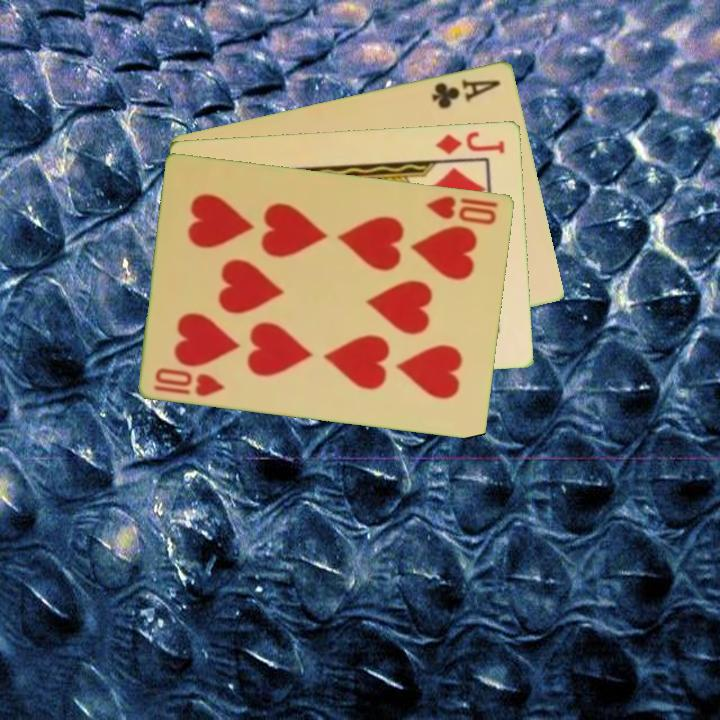10h: (423, 192, 501, 228), (150, 363, 228, 399)
Ac: (428, 75, 504, 111)
Jd: (433, 128, 508, 157)
